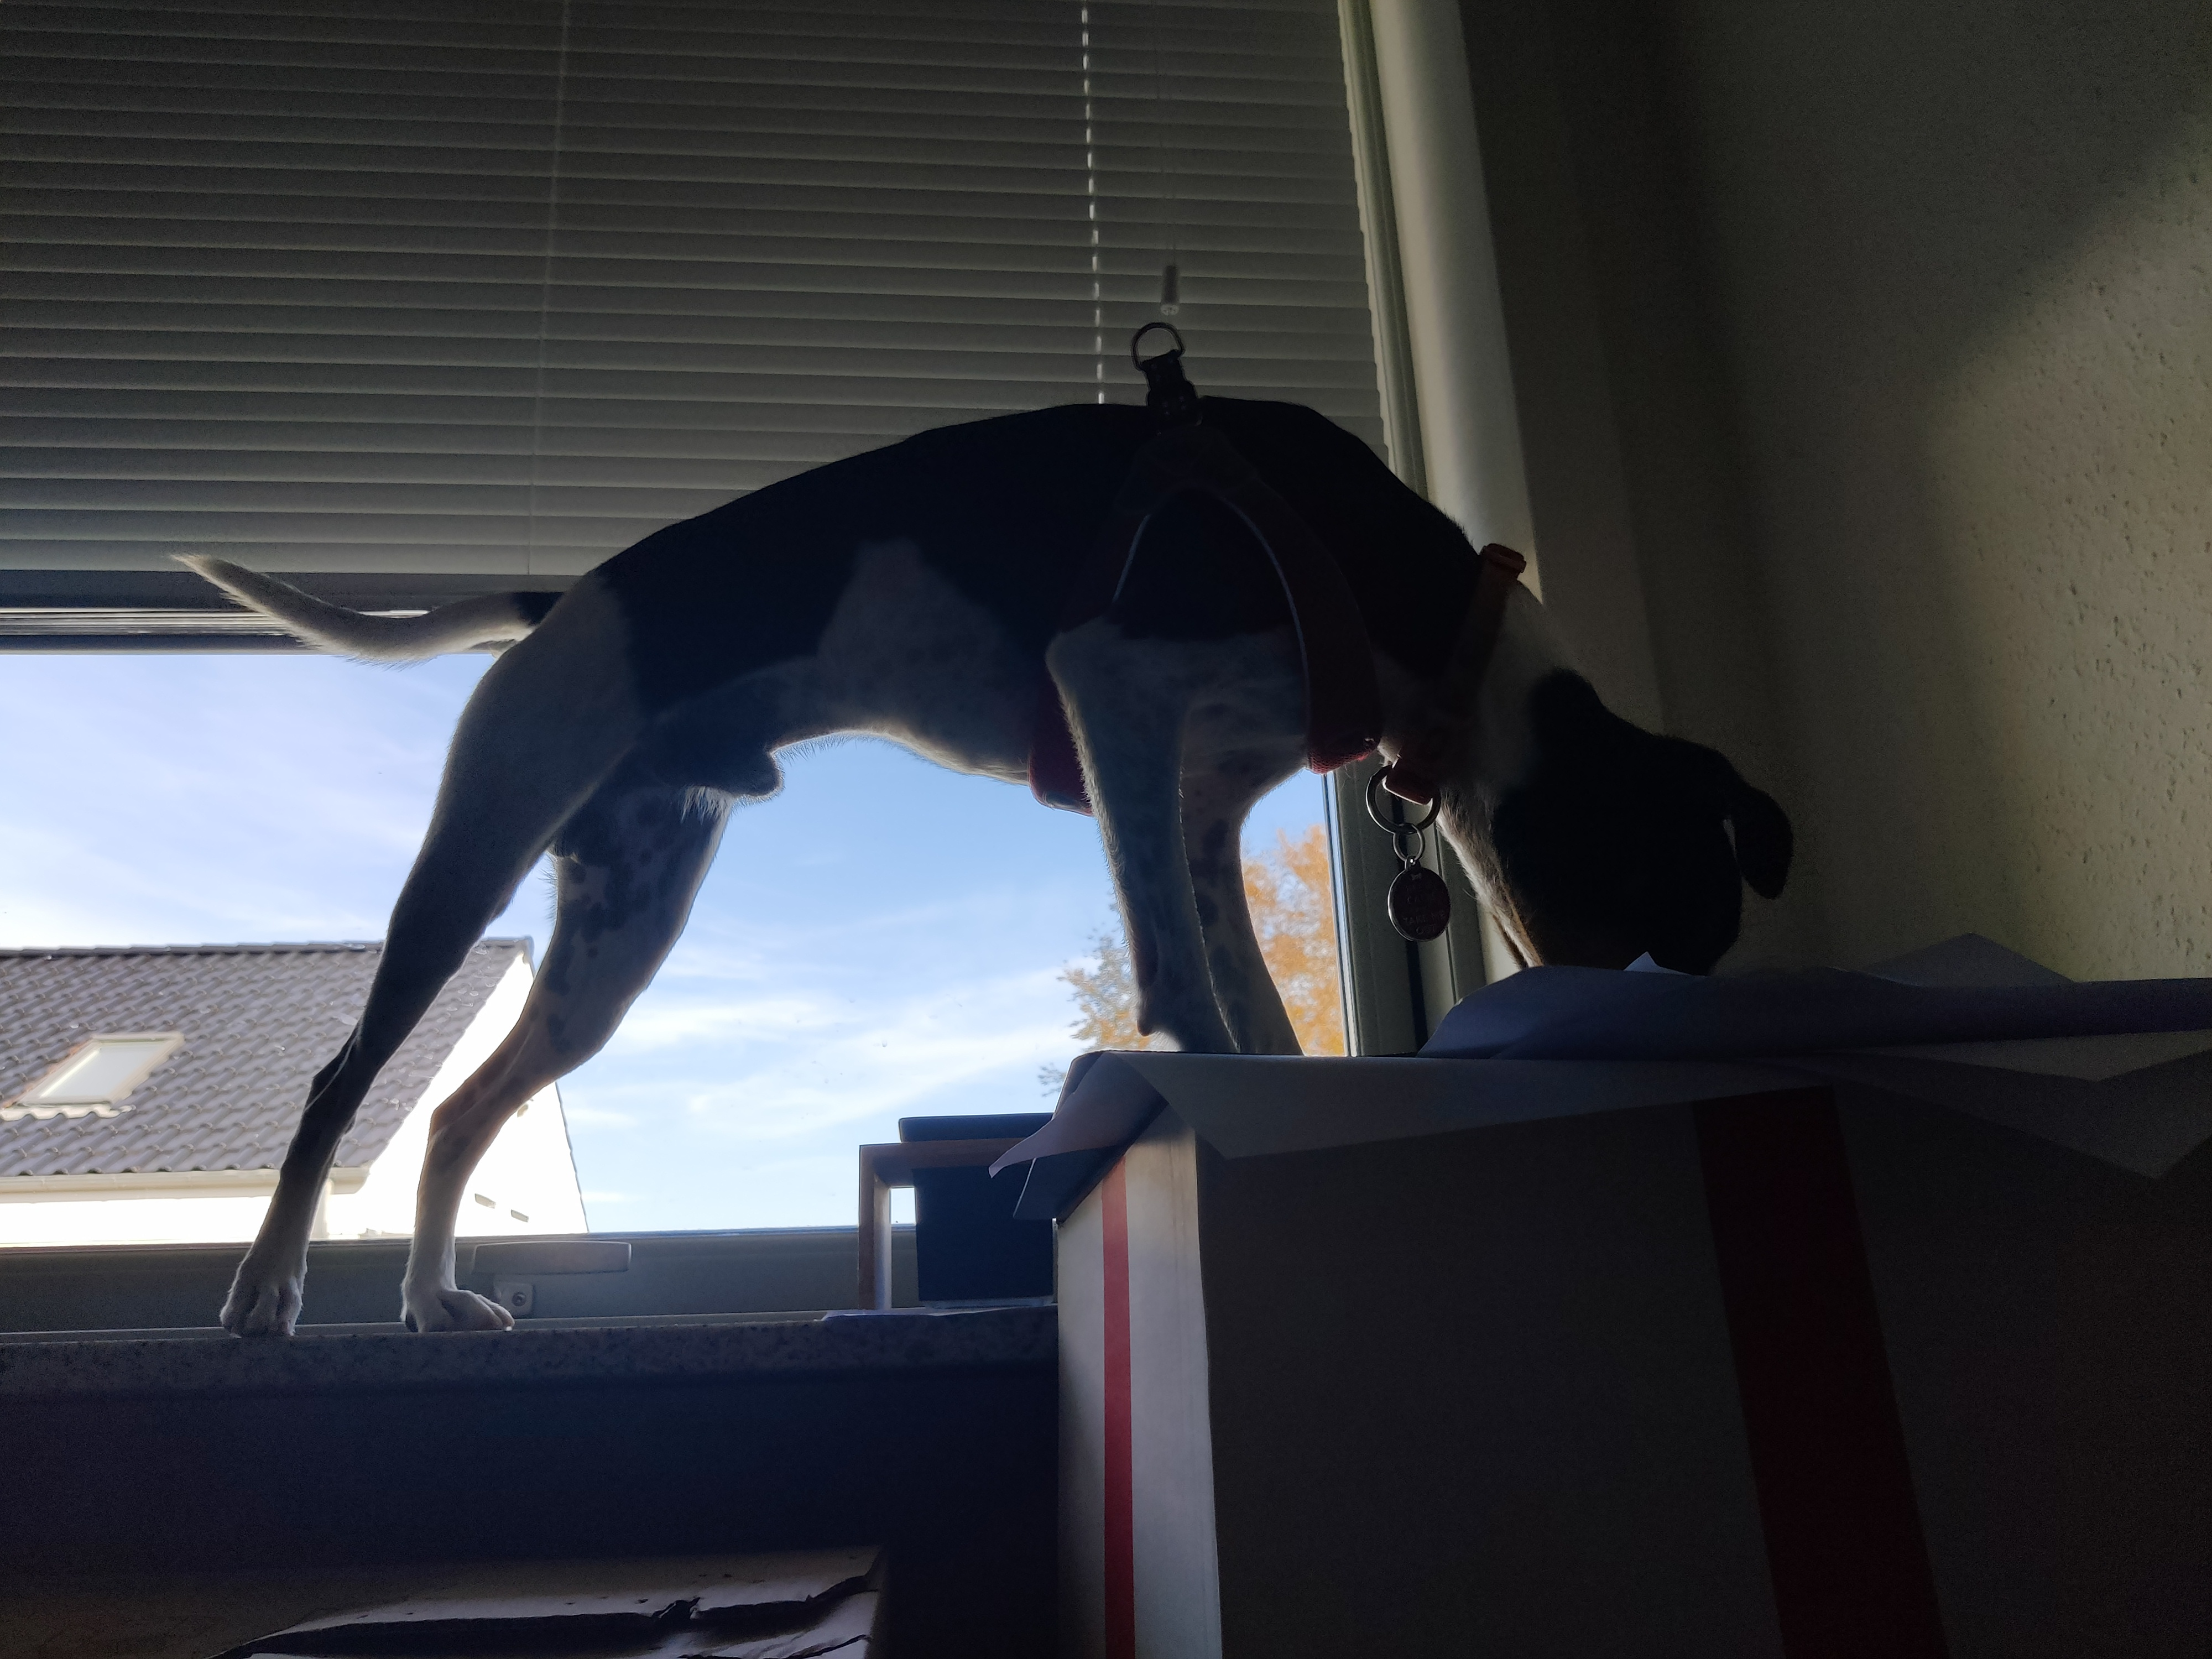Dog: (152, 376, 1804, 1370)
